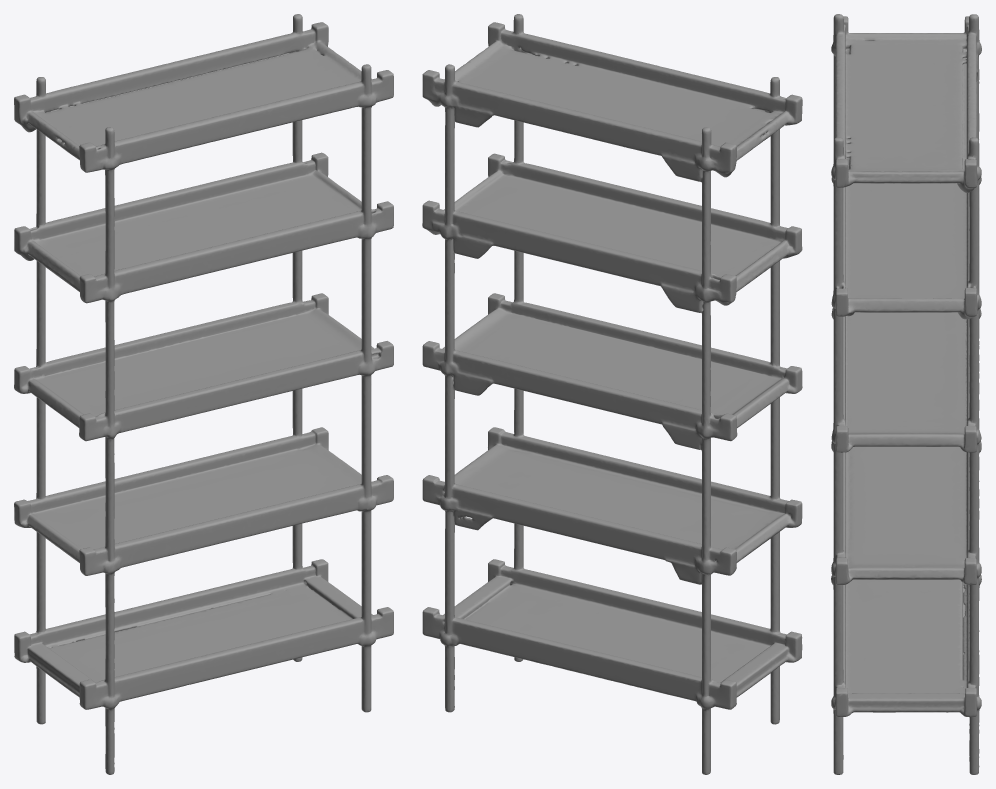
The model's file is MMZKYYsOHMSG8xAocP7At.glb.
3 views of the same model, side by side, from view 1: azimuth 30°, elevation 25°; view 2: azimuth 150°, elevation 25°; view 3: azimuth 270°, elevation 25° (orthographic).
Parts seen in each view (by area): view 1: world; view 2: world; view 3: world.
Part boxes in pixels (<box>): world: <box>14,14,393,774</box>; world: <box>422,14,802,774</box>; world: <box>831,14,981,774</box>.
Size of the model in its own units: 0.5038 by 1 by 0.2158.
Materials: 1 (1 with a texture image).
